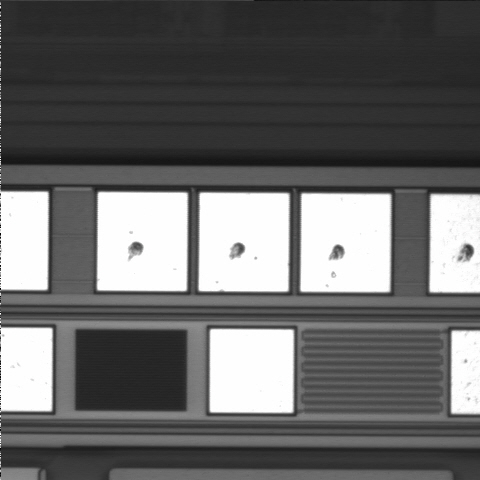pad: (97, 192, 187, 291), (199, 193, 289, 291), (301, 194, 391, 292), (210, 329, 294, 413)
